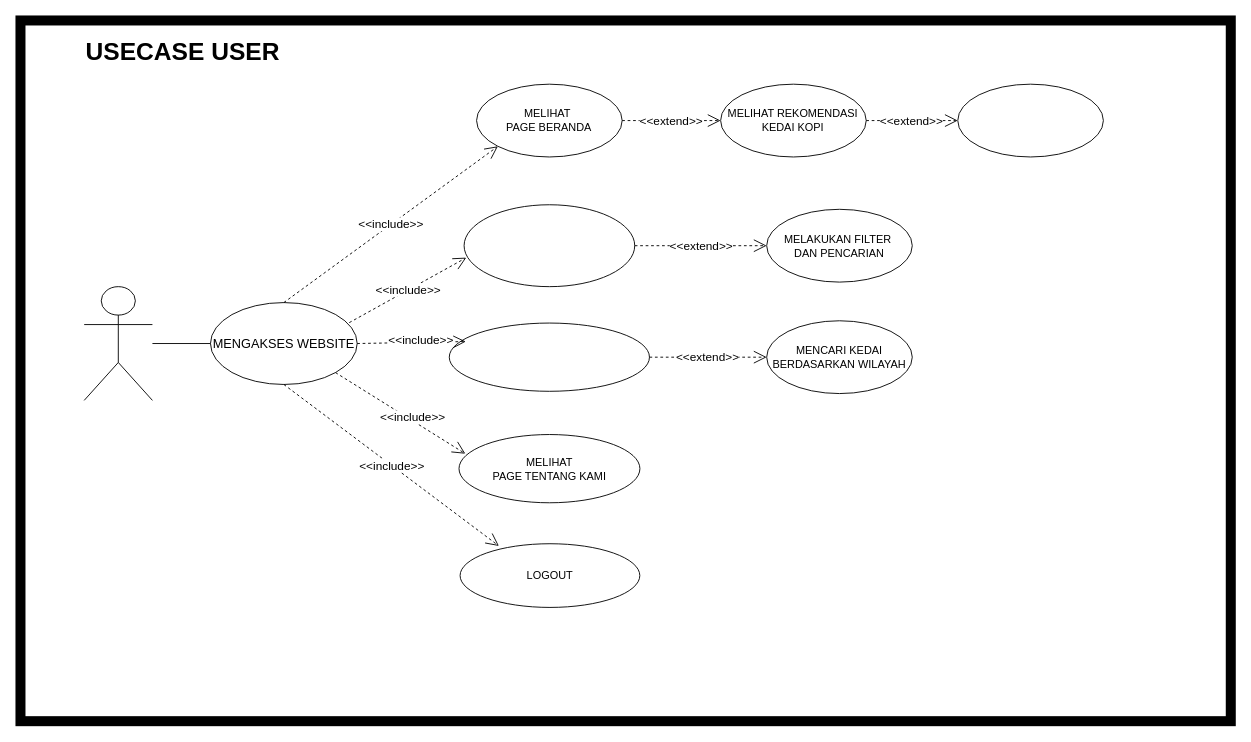
The diagram is 1251 pixels wide and 742 high, and some of its shapes have lost their labels. Each missing label, with the centre of its shape:
"MELIHAT PAGE PENCARIAN" belongs at point (549, 245).
"MELIHAT PAGE WILAYAH" belongs at point (548, 356).
"MELIHAT PROFIL KEDAI KOPI" belongs at point (1030, 120).
"USER" belongs at point (117, 343).
